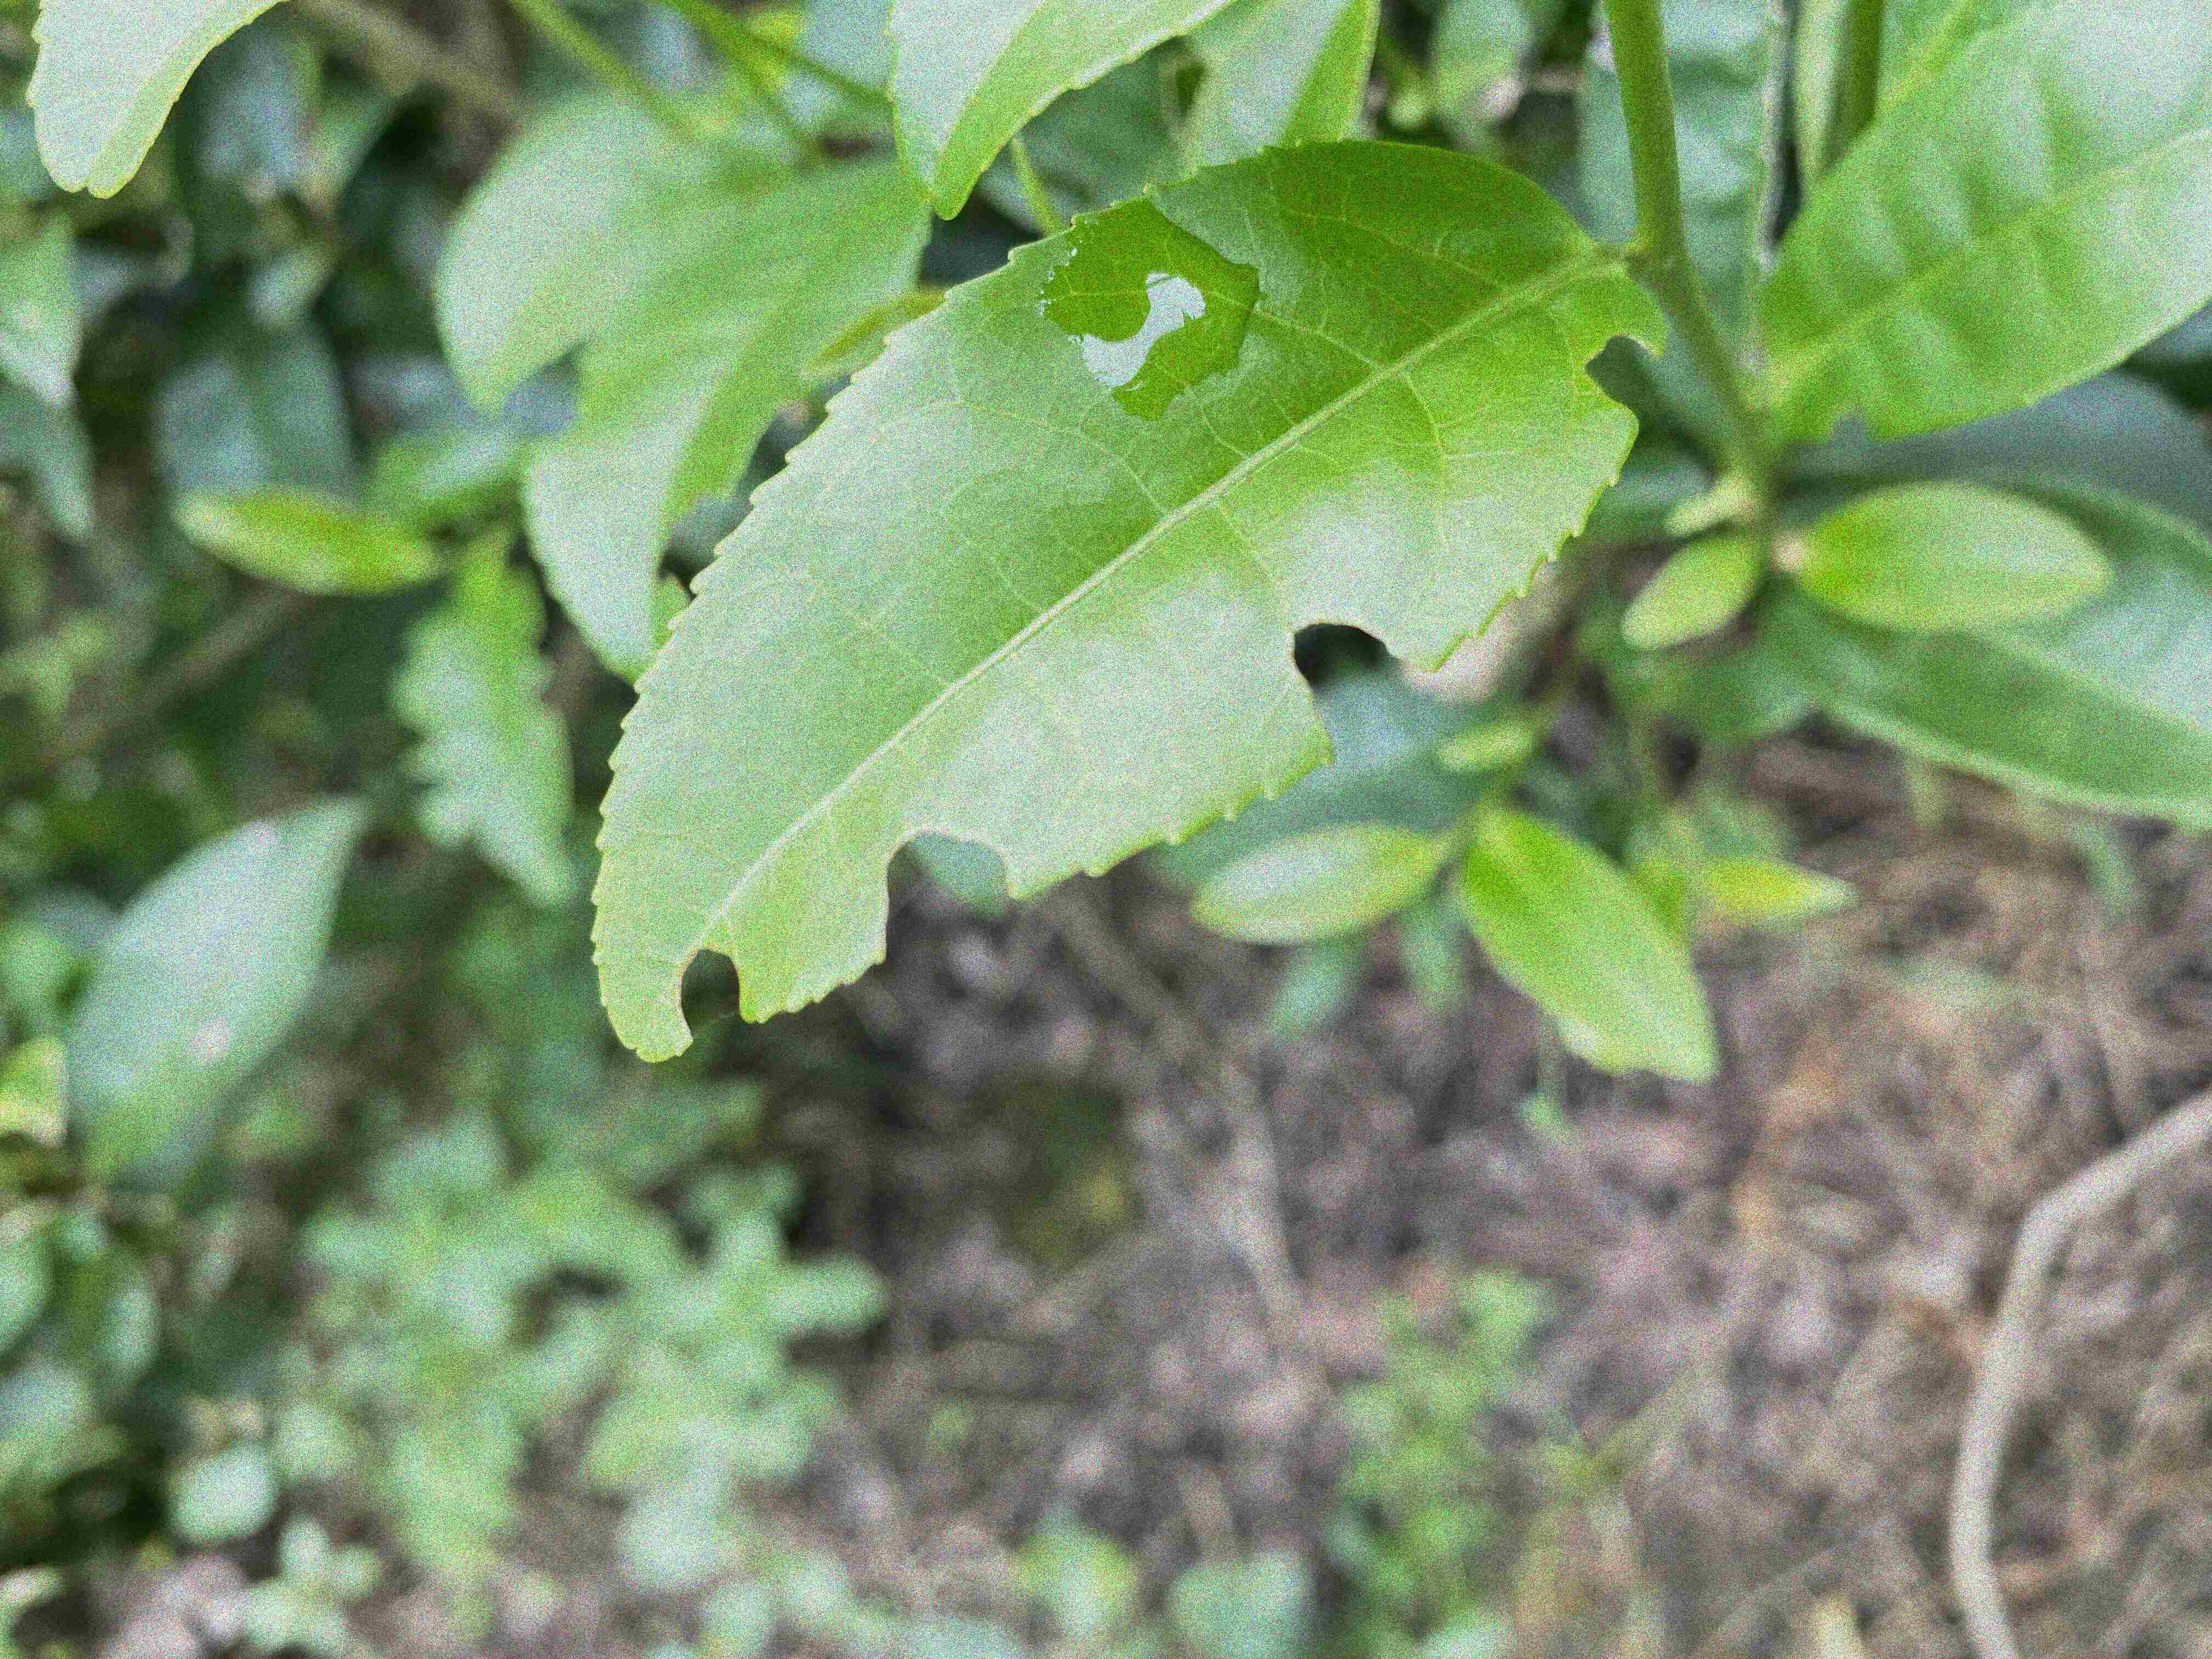chihuo_high: (590, 138, 1672, 1063)
